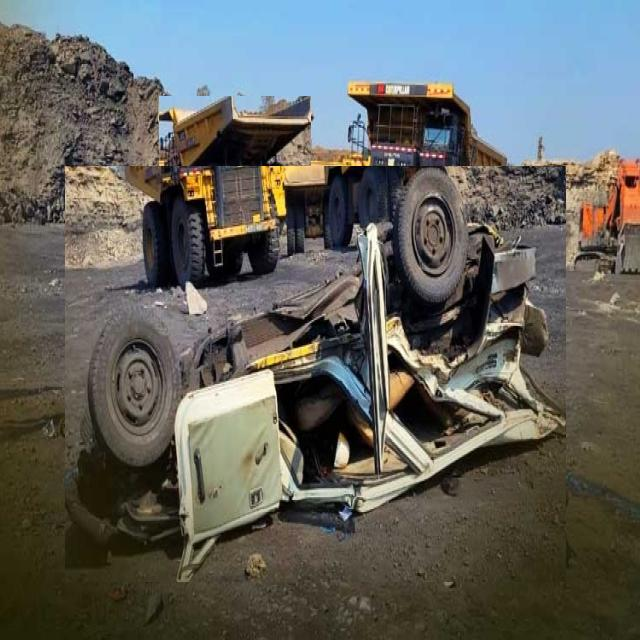accident: (65, 166, 566, 582)
truck: (345, 81, 506, 288), (160, 96, 311, 245)
